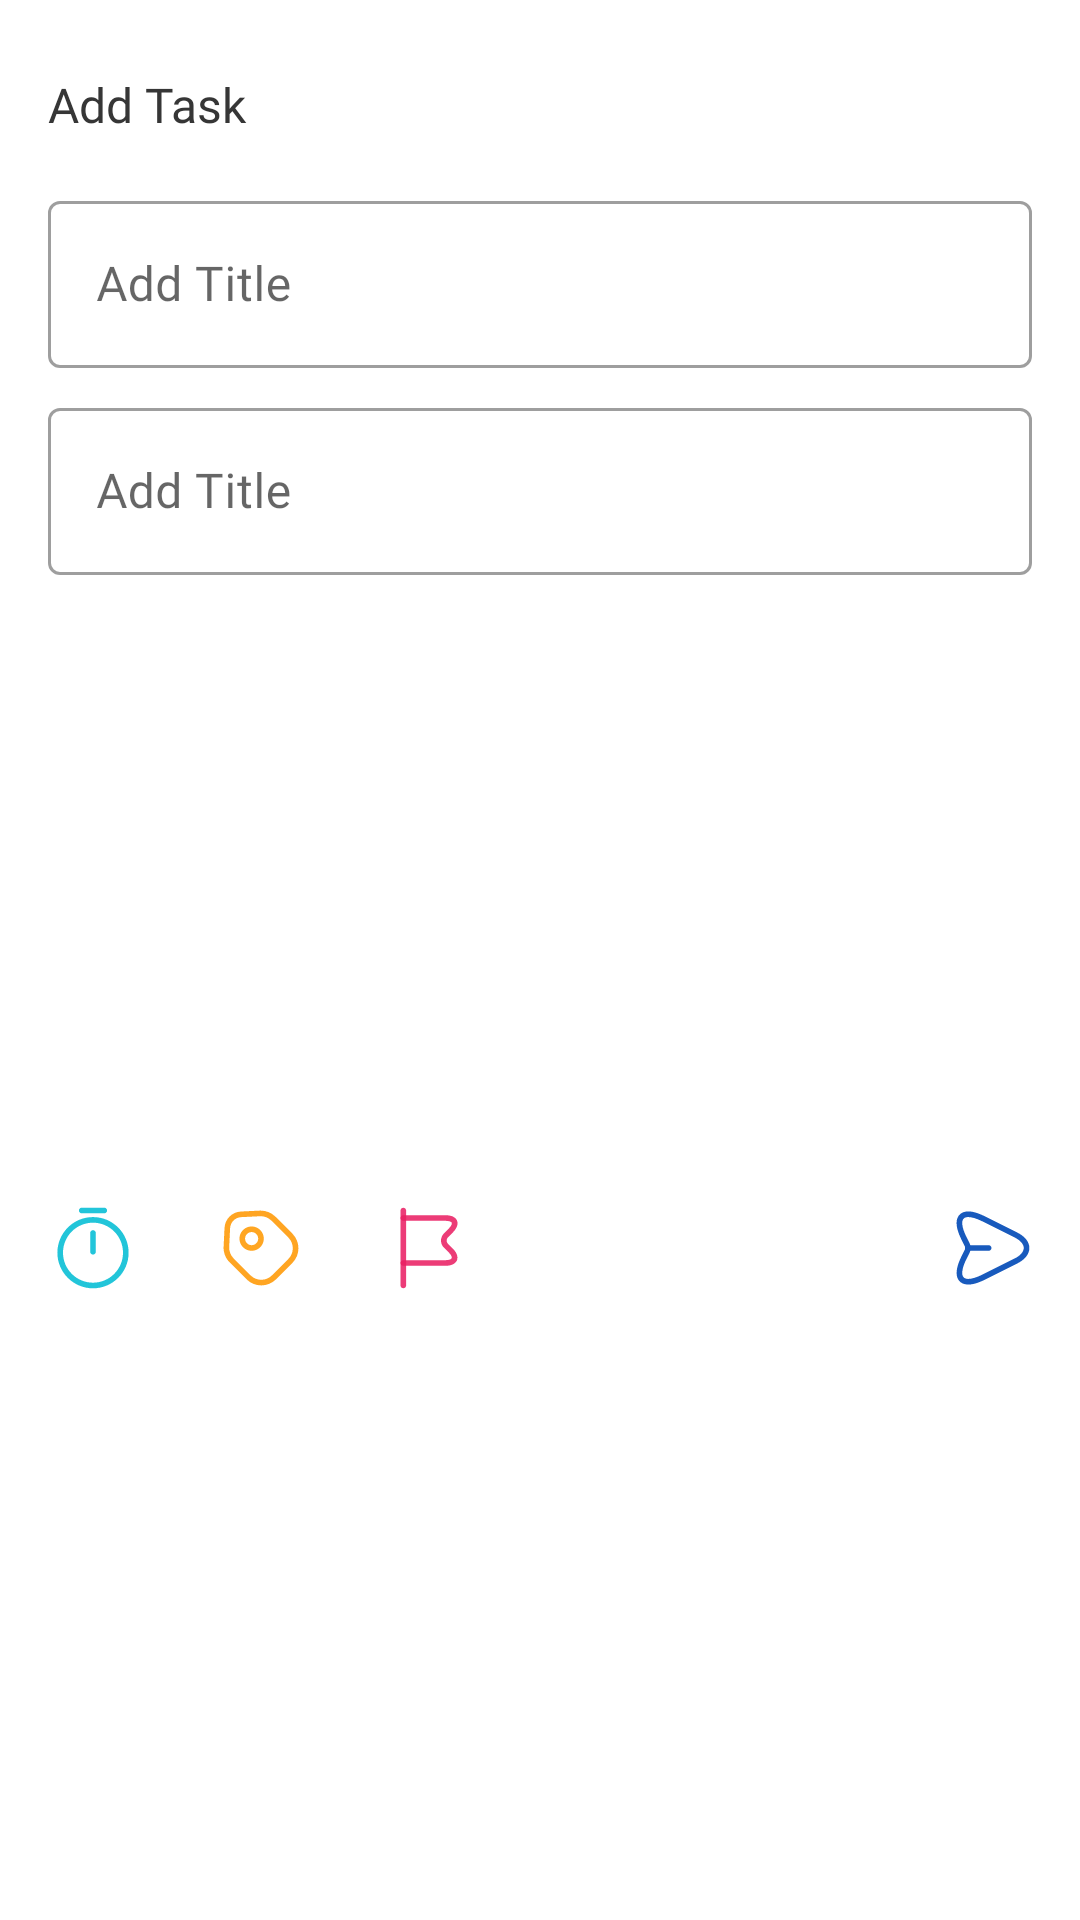

Point at icon controls on the screen. Image size 1080x1920, points as point (x, y).
flag: point (429, 1248)
send: point (993, 1248)
tag: point (261, 1248)
timer: point (93, 1248)
